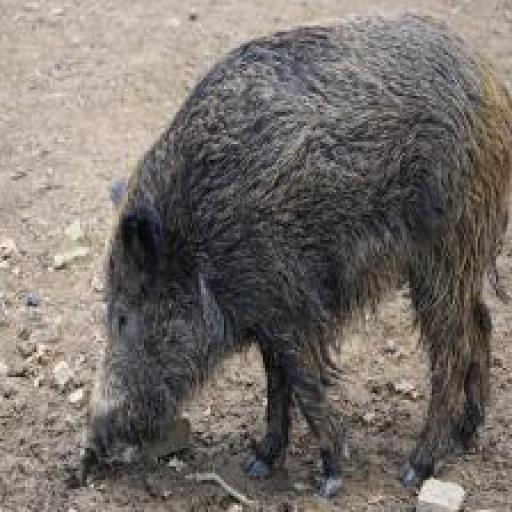Pig: (82, 4, 509, 512)
